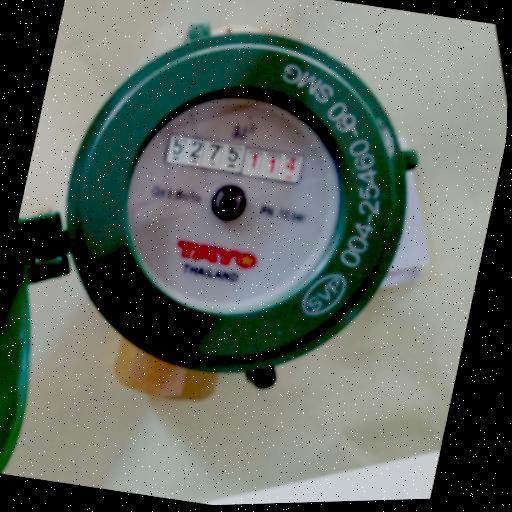1: (244, 150, 262, 173), (263, 153, 281, 176)
2: (186, 141, 204, 163)
4: (280, 156, 298, 179)
5: (168, 137, 186, 161), (223, 146, 241, 169)
7: (204, 143, 222, 166)
border_water_meter_number: (161, 128, 306, 189)
